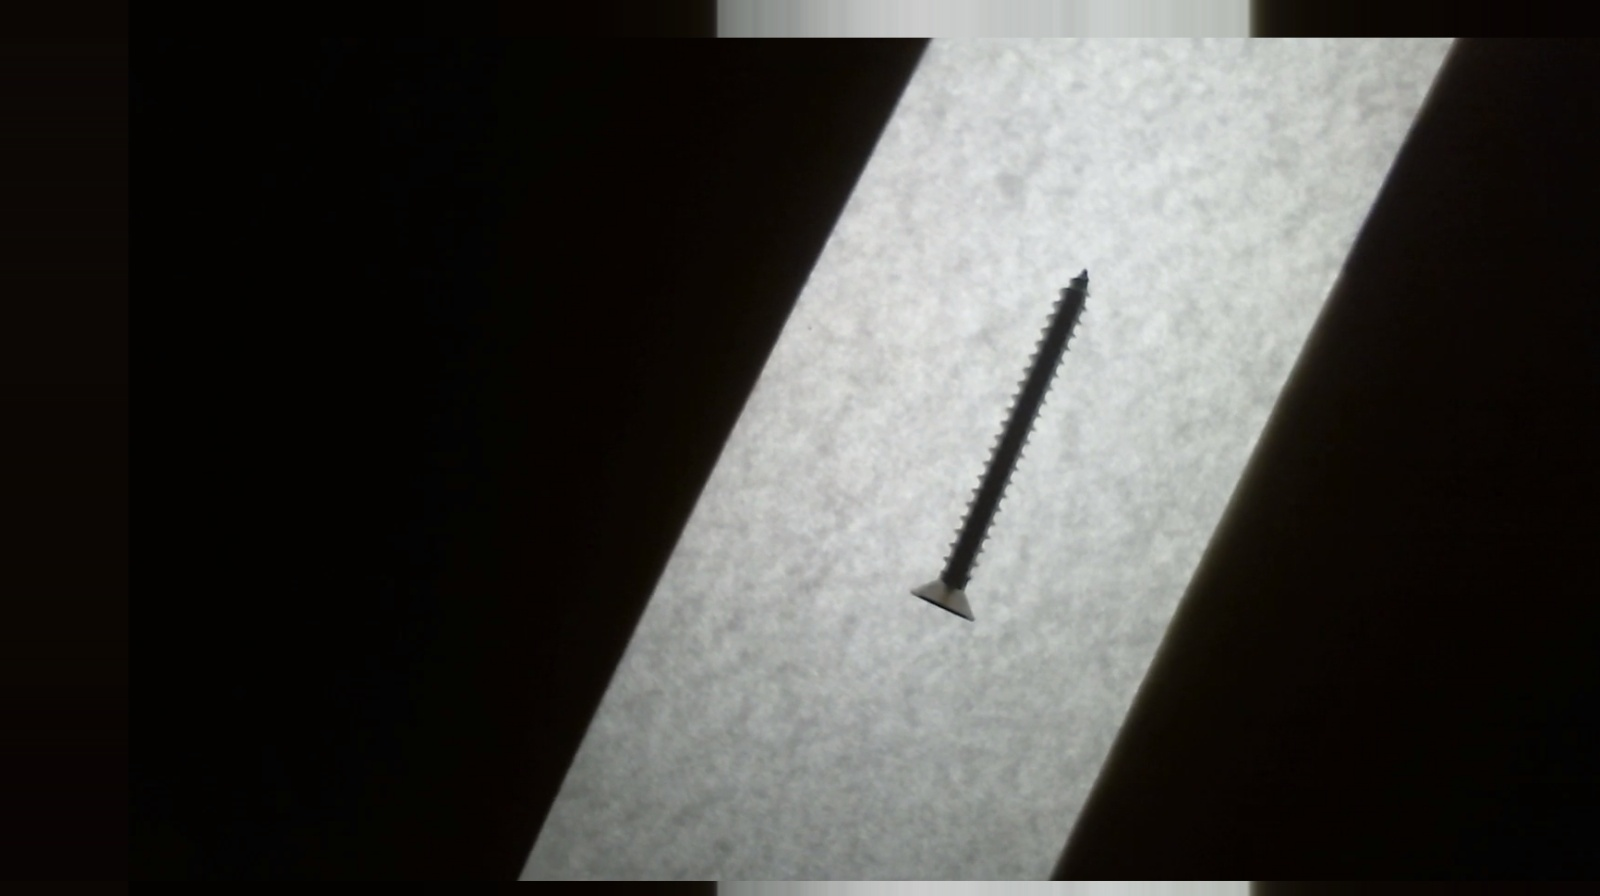S002: (892, 257, 1108, 652)
